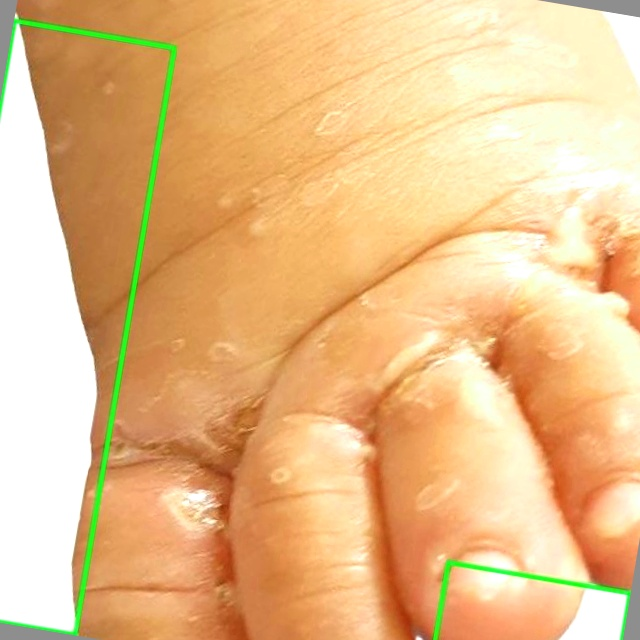Scabies: (0, 20, 174, 634)
